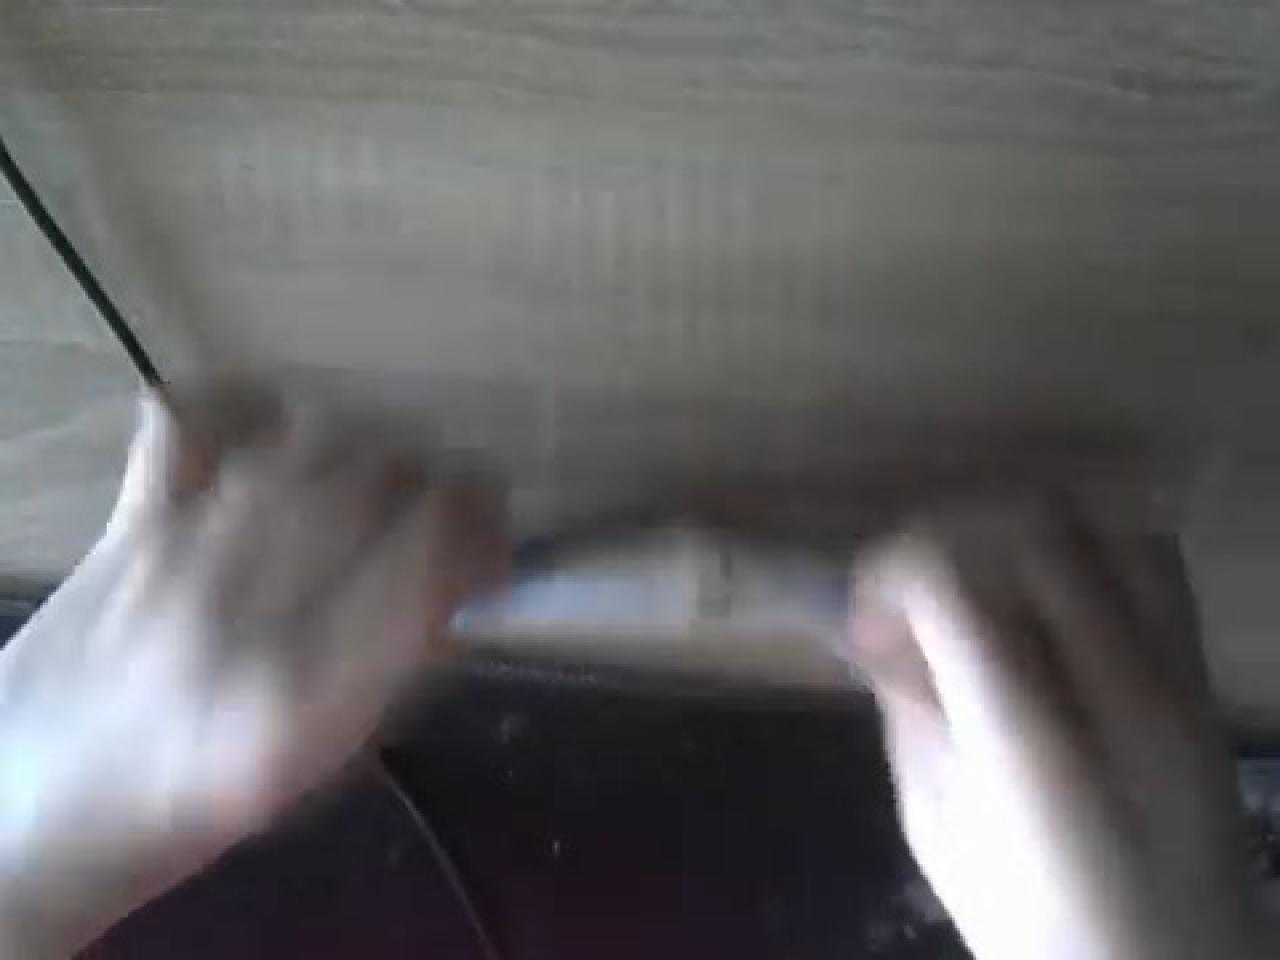20leva: (447, 493, 872, 683)
